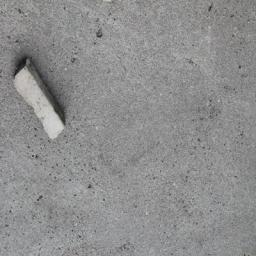FOD: (12, 56, 72, 142)
